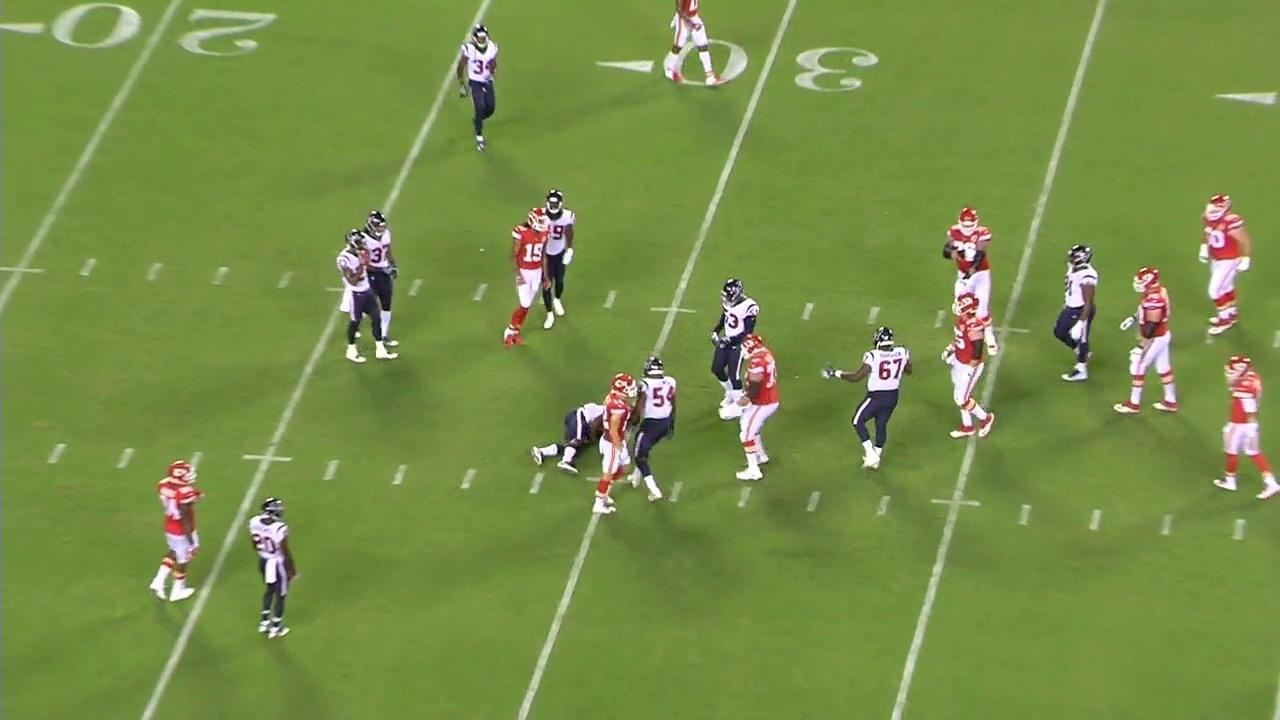five_hash: (238, 452, 298, 466), (929, 495, 983, 509), (648, 304, 697, 316), (0, 266, 47, 276)
hash: (803, 486, 828, 519), (318, 456, 344, 487), (868, 490, 894, 519), (862, 302, 888, 330), (41, 439, 70, 464), (1084, 504, 1108, 534), (274, 263, 299, 291), (1014, 500, 1039, 528), (207, 263, 232, 290), (76, 255, 101, 281), (142, 260, 166, 287), (456, 466, 480, 492), (113, 446, 137, 472), (1155, 511, 1178, 538), (1228, 516, 1251, 543), (733, 483, 756, 510), (664, 478, 687, 505), (526, 469, 547, 497), (797, 297, 819, 323), (389, 460, 408, 490), (404, 275, 427, 299), (601, 287, 622, 313), (471, 279, 492, 304), (932, 307, 952, 331)
number: (666, 33, 881, 104), (52, 0, 284, 63)
